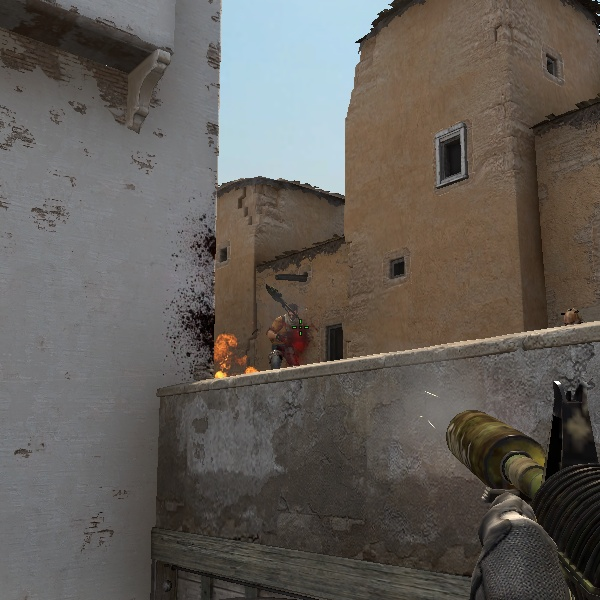t_body: (267, 302, 310, 369), (555, 301, 593, 327)
t_head: (280, 299, 311, 330), (556, 303, 587, 332)
